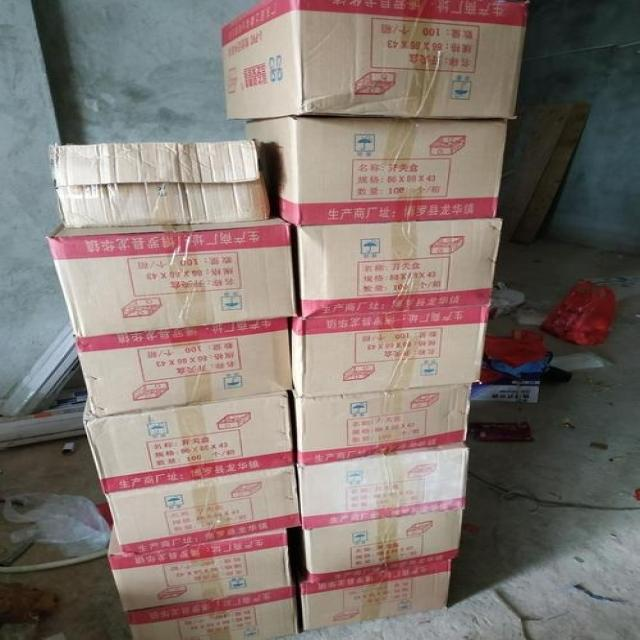box: (219, 0, 530, 121), (50, 217, 296, 338), (246, 115, 507, 226), (74, 319, 293, 418), (82, 391, 294, 493), (296, 217, 503, 317), (50, 140, 275, 228), (291, 304, 490, 397), (106, 466, 302, 554), (106, 526, 292, 612), (293, 383, 474, 466), (296, 443, 468, 530), (302, 510, 463, 582), (301, 559, 451, 631), (127, 587, 298, 640)
